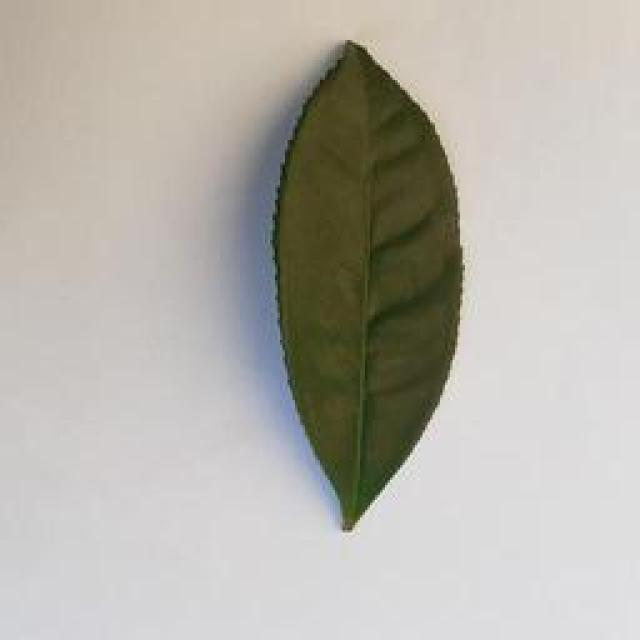Healthy: (262, 37, 464, 540)
